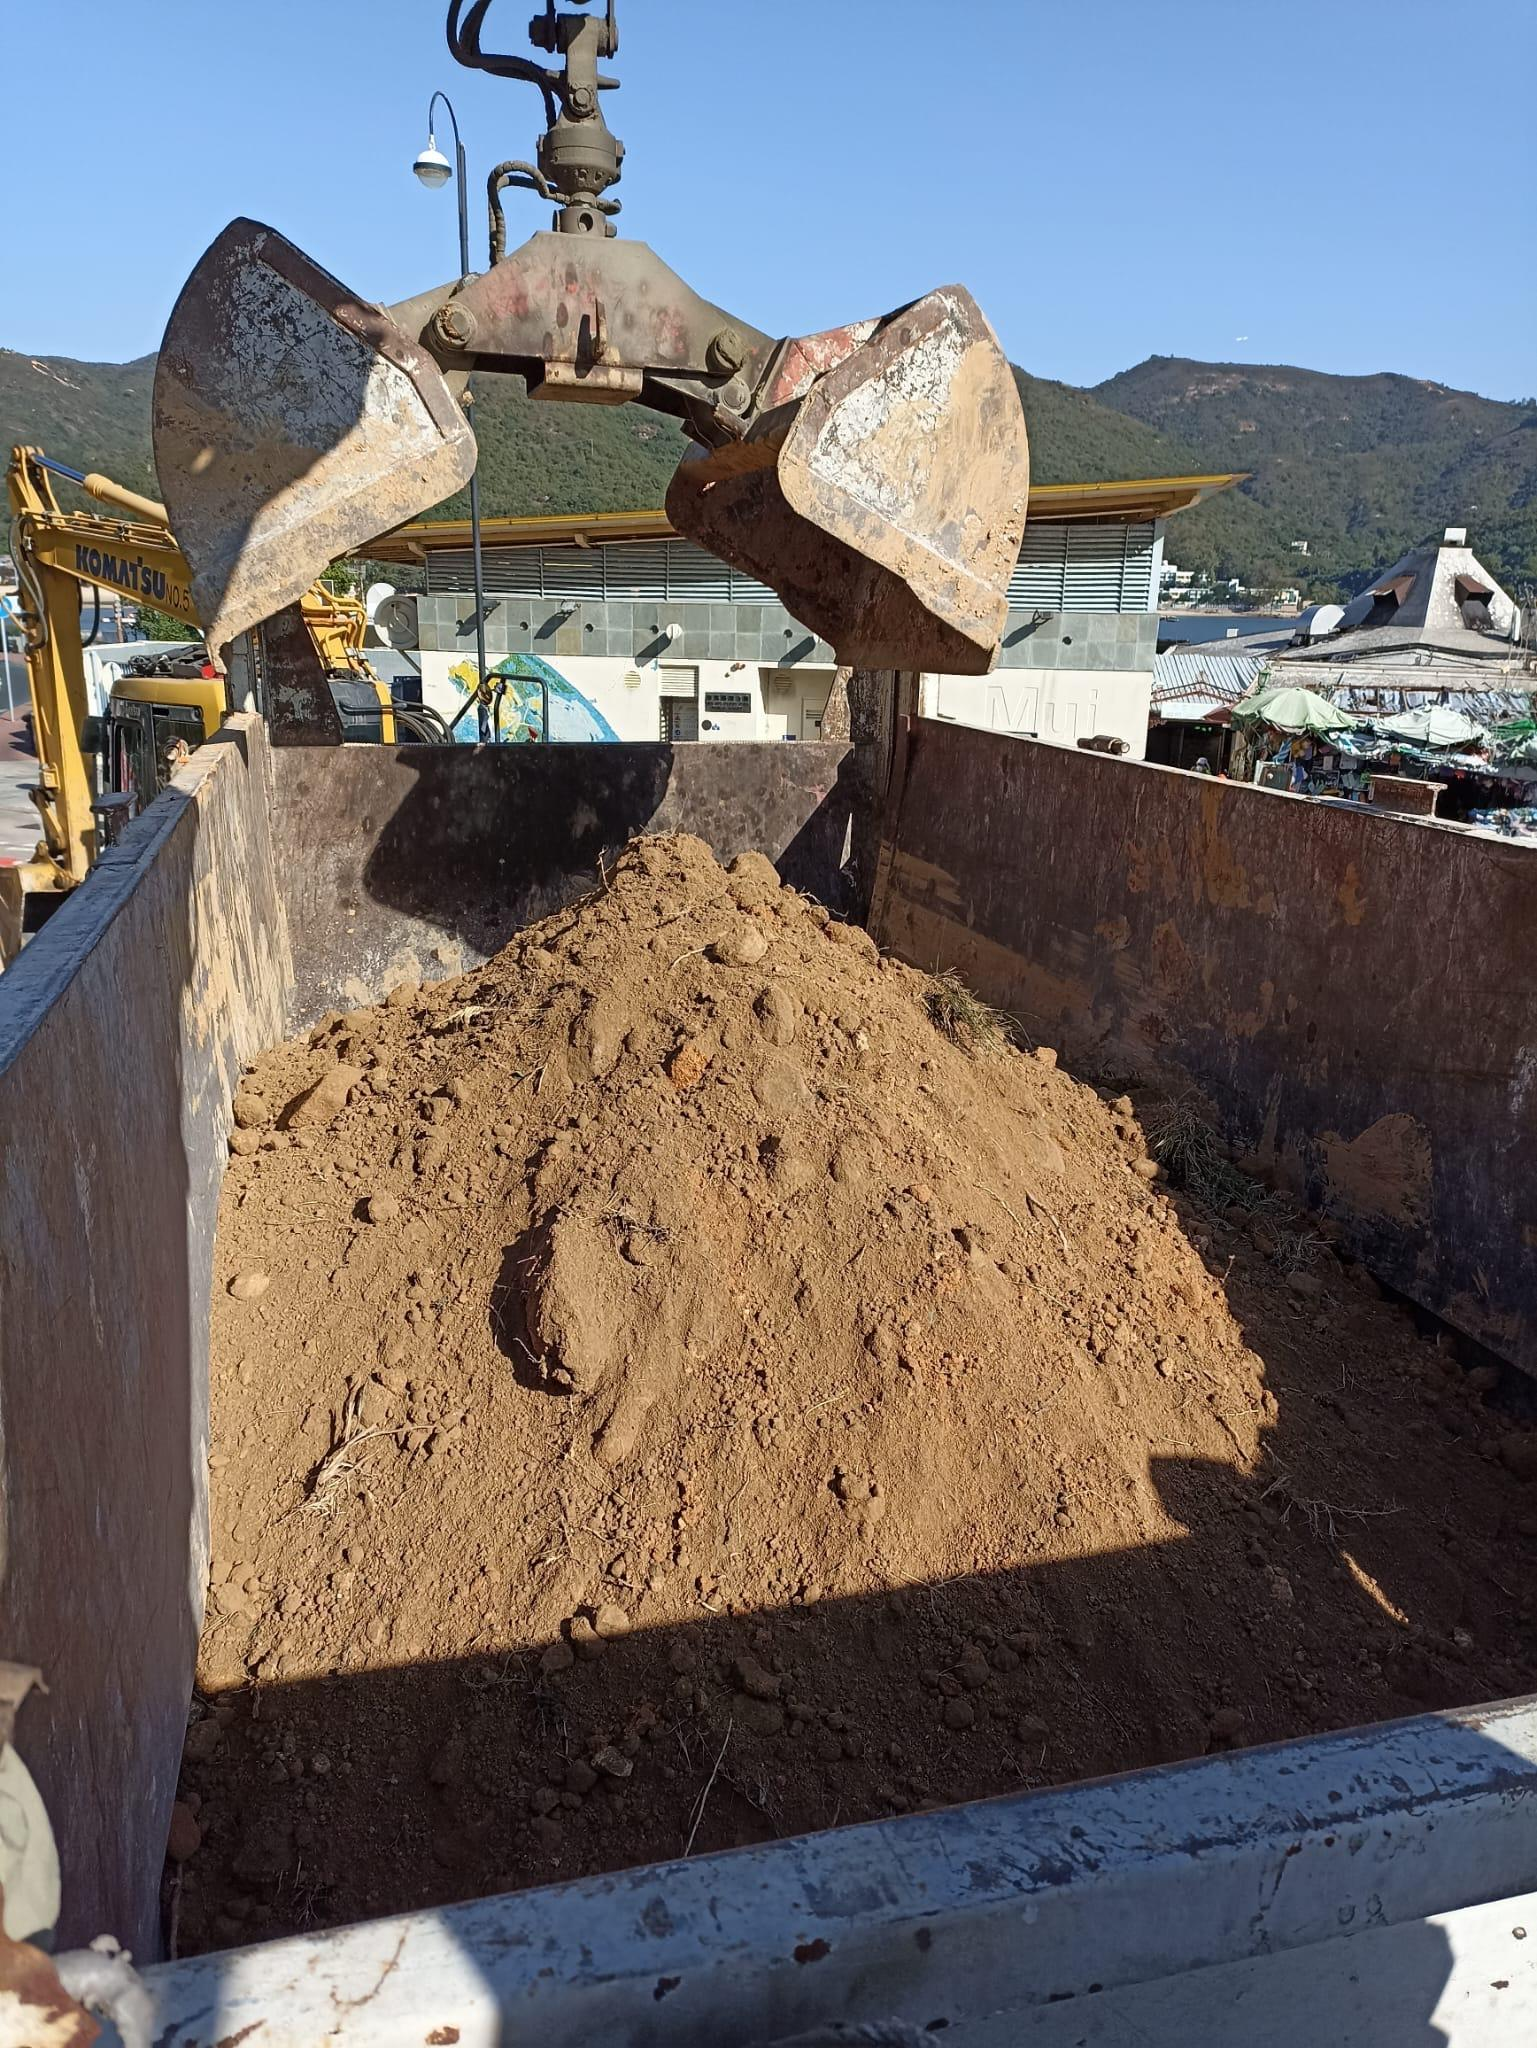dry: (237, 844, 1497, 1853)
